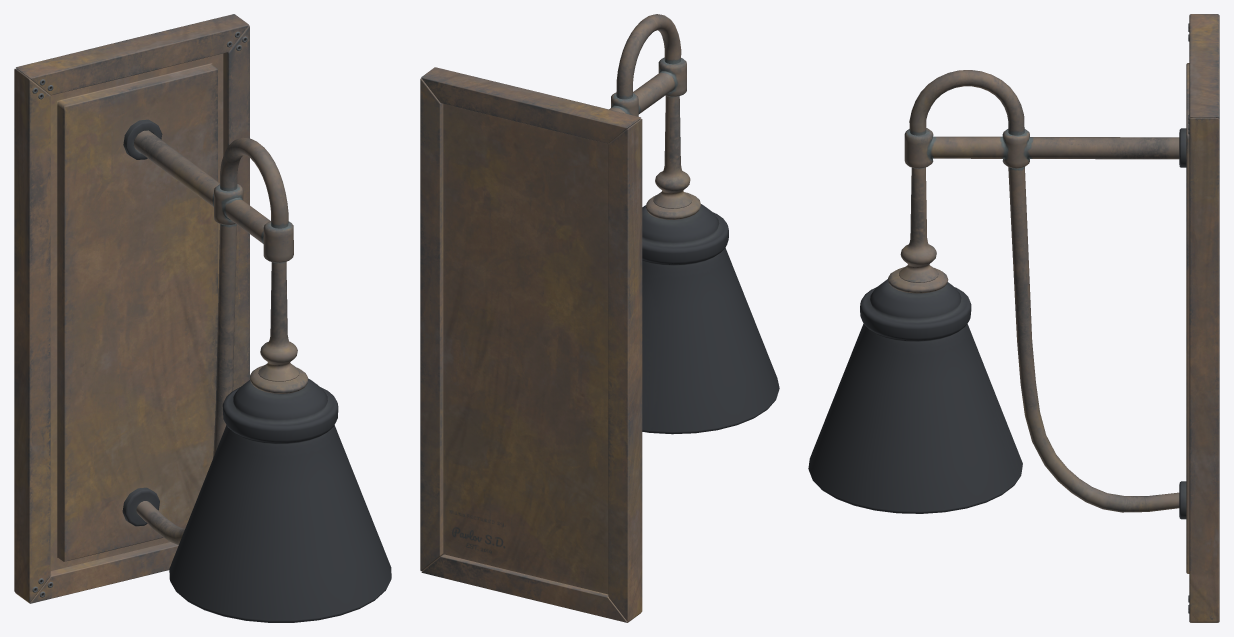
The model's file is industrial_wall_sconce_2k.gltf.
3 views of the same model, side by side, from view 1: azimuth 30°, elevation 25°; view 2: azimuth 150°, elevation 25°; view 3: azimuth 270°, elevation 25° (orthographic). The views are drawn at different scales.
Visible parts, largest first — view 1: industrial_wall_sconce; view 2: industrial_wall_sconce; view 3: industrial_wall_sconce.
Part boxes in pixels (x1,y1,x2,y2): industrial_wall_sconce: (14, 14, 391, 622); industrial_wall_sconce: (420, 14, 779, 622); industrial_wall_sconce: (808, 14, 1219, 622).
Size of the model in its own units: 0.1503 by 0.3418 by 0.2516.
Materials: 2 (2 with a texture image).
